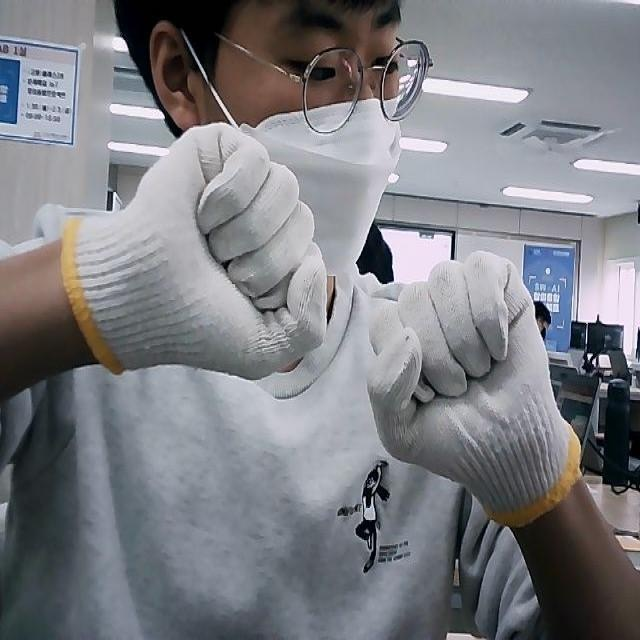Guantes: (63, 124, 327, 375), (366, 247, 580, 526)
